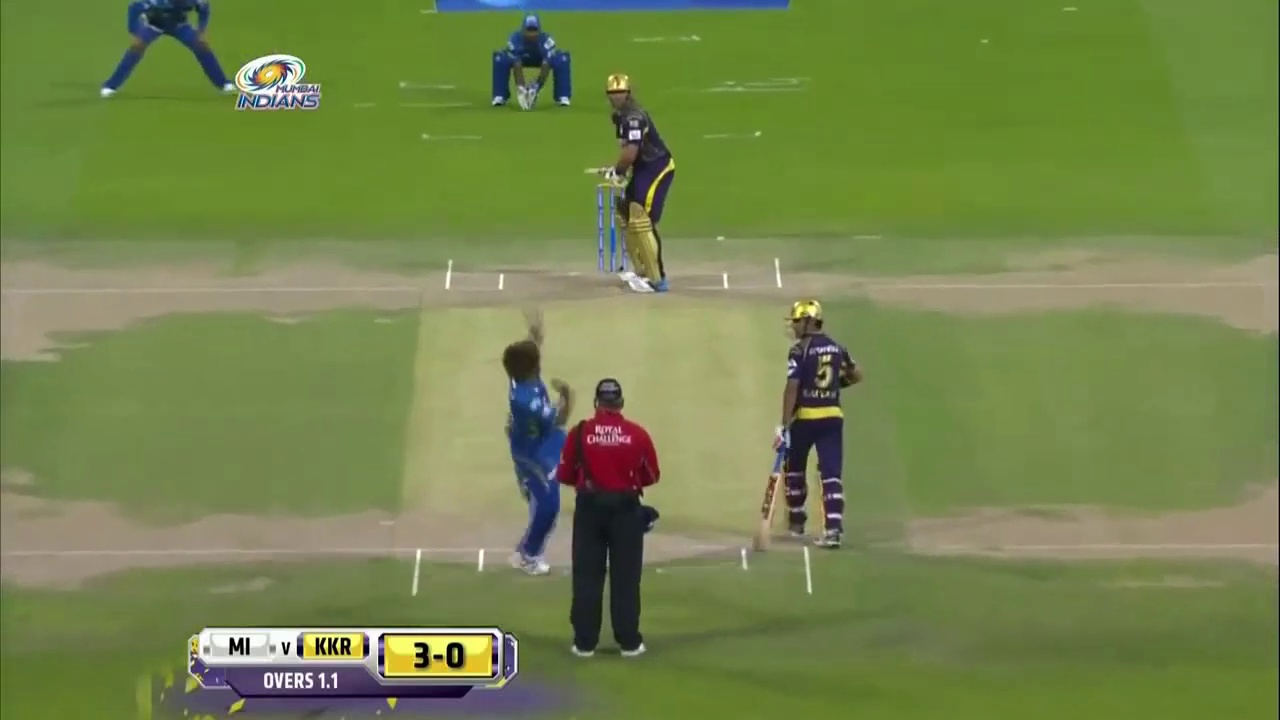bat: (750, 452, 785, 554)
